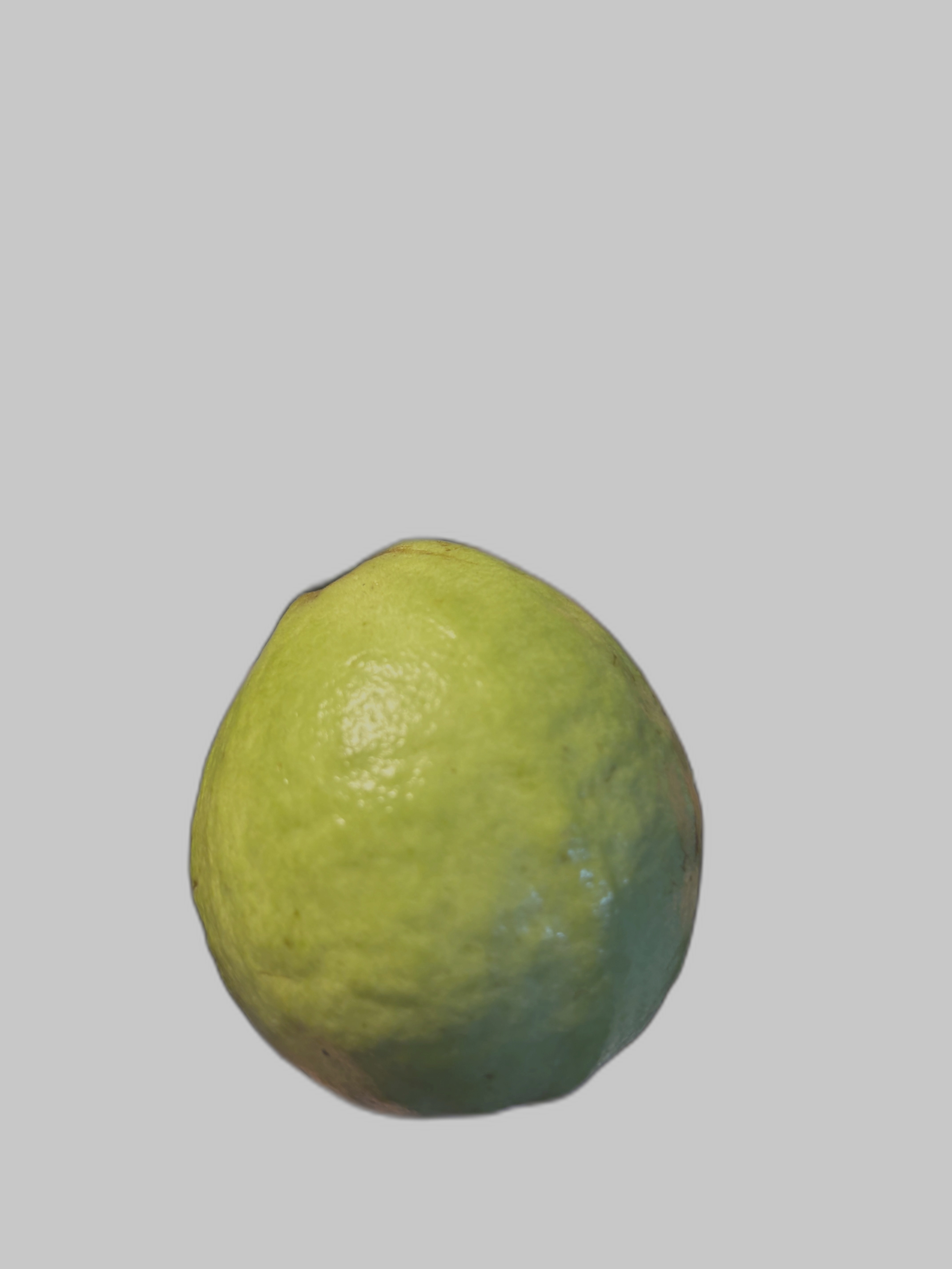guava: (217, 347, 865, 1139)
